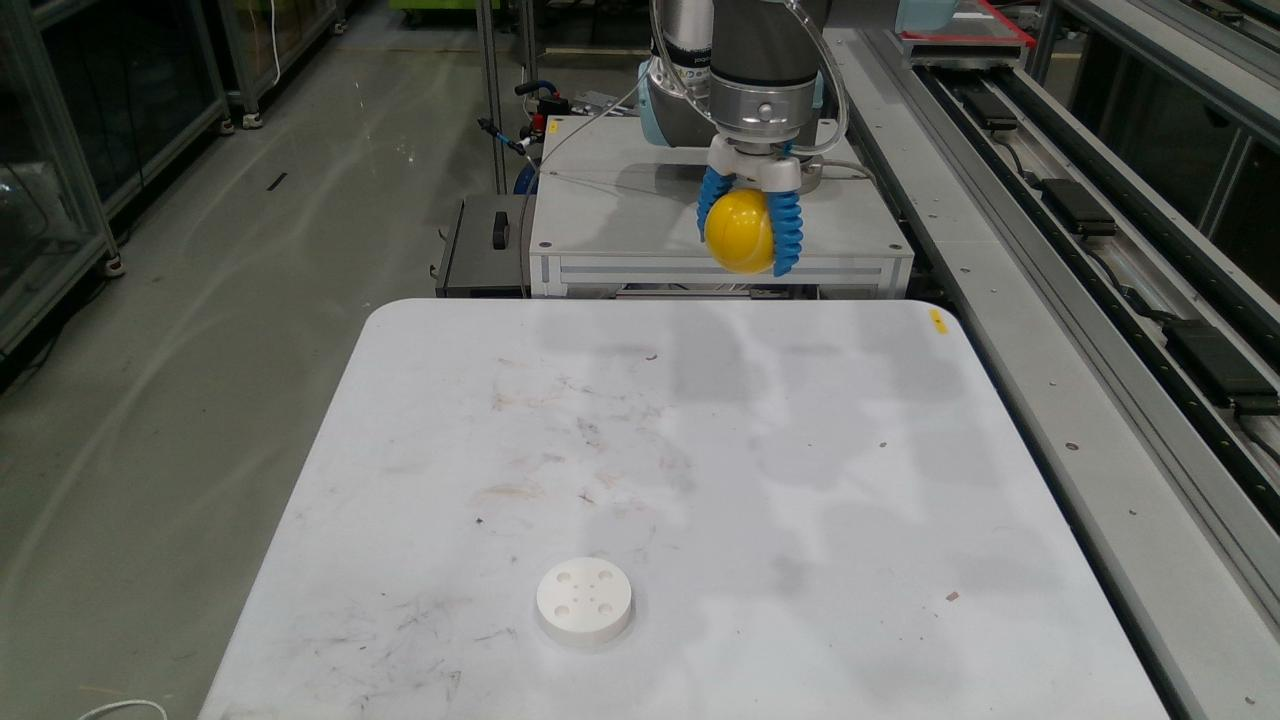UR5: (636, 0, 959, 194)
gripper_left: (695, 167, 735, 242)
gripper_right: (765, 190, 803, 277)
target: (535, 557, 634, 649), (704, 188, 775, 274)
